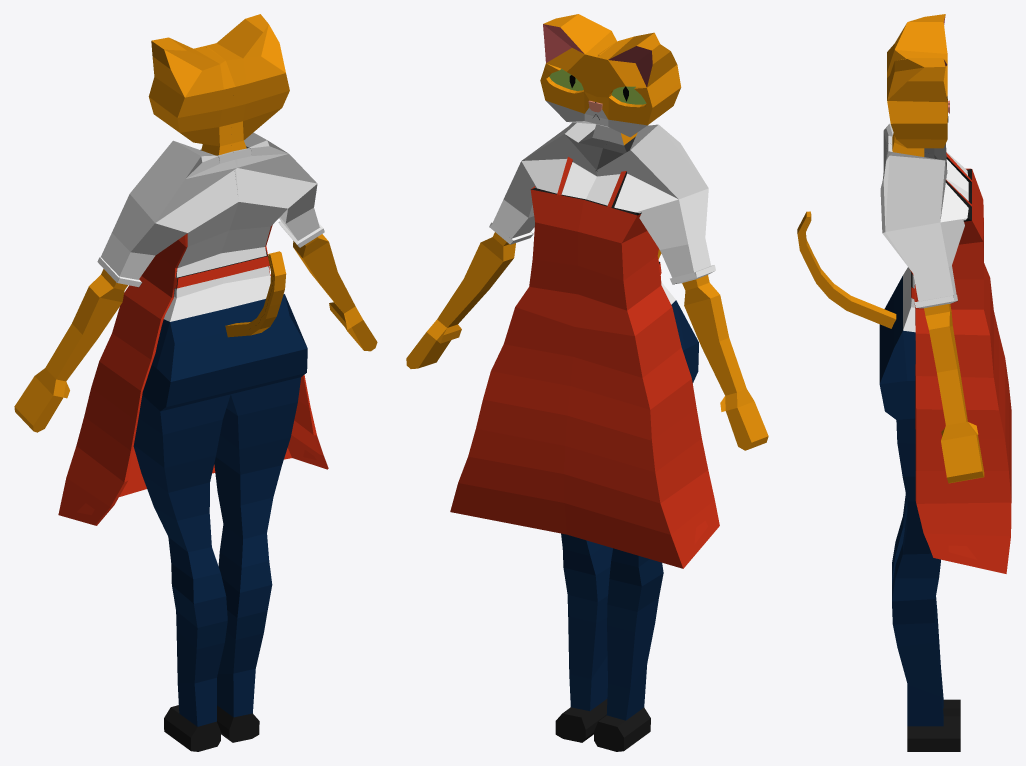
The model's file is CatClerk.fbx.
The picture shows the model from 3 angles, left to right: view 1: azimuth 30°, elevation 25°; view 2: azimuth 150°, elevation 25°; view 3: azimuth 270°, elevation 25°; orthographic projection.
Parts seen in each view (by area): view 1: Clerk2; view 2: Clerk2; view 3: Clerk2.
Boxes of the visible parts, x1,y1,x2,y2 form: Clerk2: [14, 14, 377, 751]; Clerk2: [406, 14, 768, 751]; Clerk2: [797, 14, 1011, 751].
Bounding box in the file's own units: 588 × 1144 × 318.
1 material, 1 textured.
